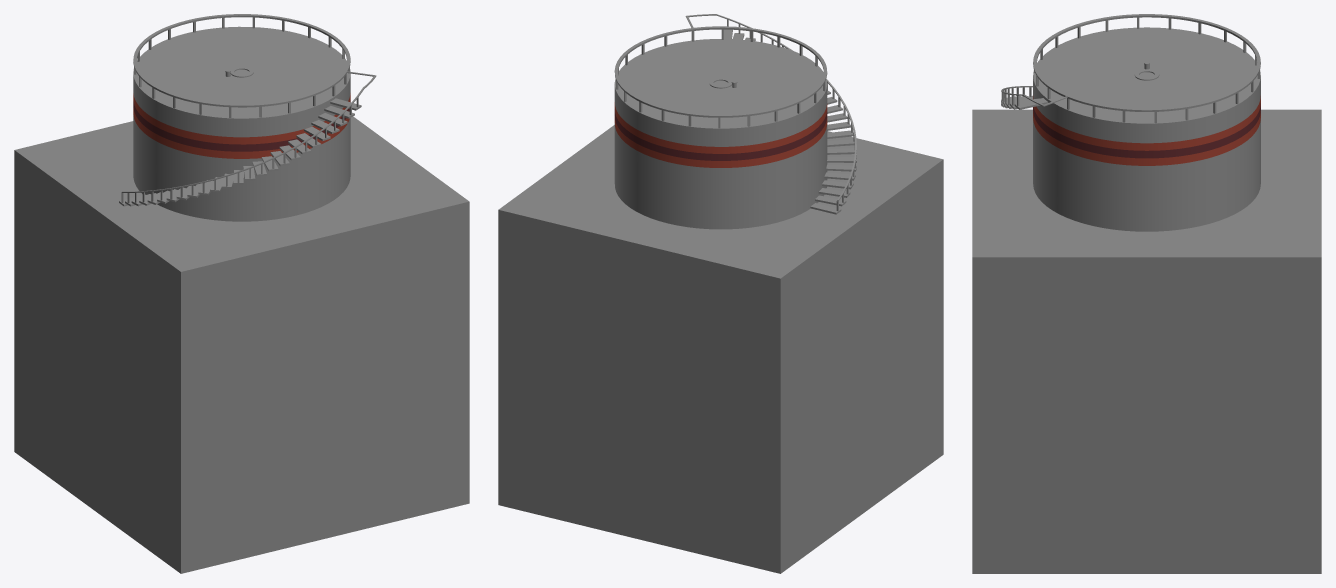
The model's file is silo.gltf.
3 views of the same model, side by side, from view 1: azimuth 30°, elevation 25°; view 2: azimuth 150°, elevation 25°; view 3: azimuth 270°, elevation 25° (orthographic). The views are drawn at different scales.
Parts seen in each view (by area): view 1: Silo; view 2: Silo; view 3: Silo.
Part boxes in pixels (x1,y1,x2,y2): Silo: (14, 14, 469, 573); Silo: (498, 14, 943, 573); Silo: (972, 14, 1321, 573).
Bounding box in the file's own units: 28.67 × 39.67 × 28.67.
